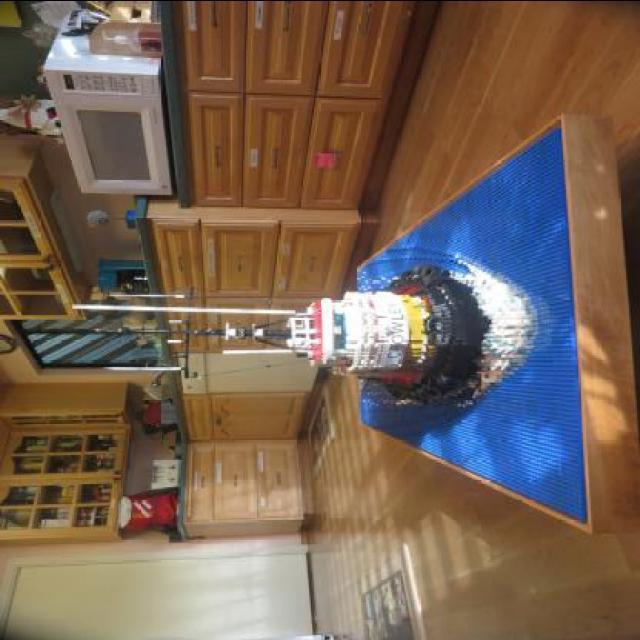Cake: (288, 268, 526, 404)
